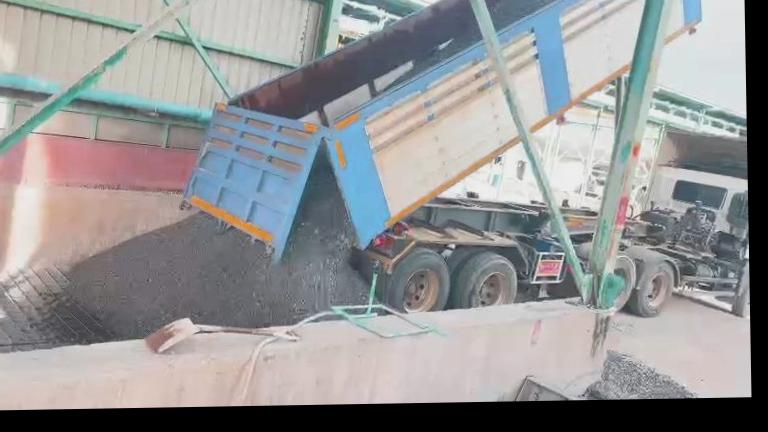gravel: (64, 154, 368, 337), (388, 22, 480, 87), (586, 351, 698, 399), (490, 0, 603, 31)
